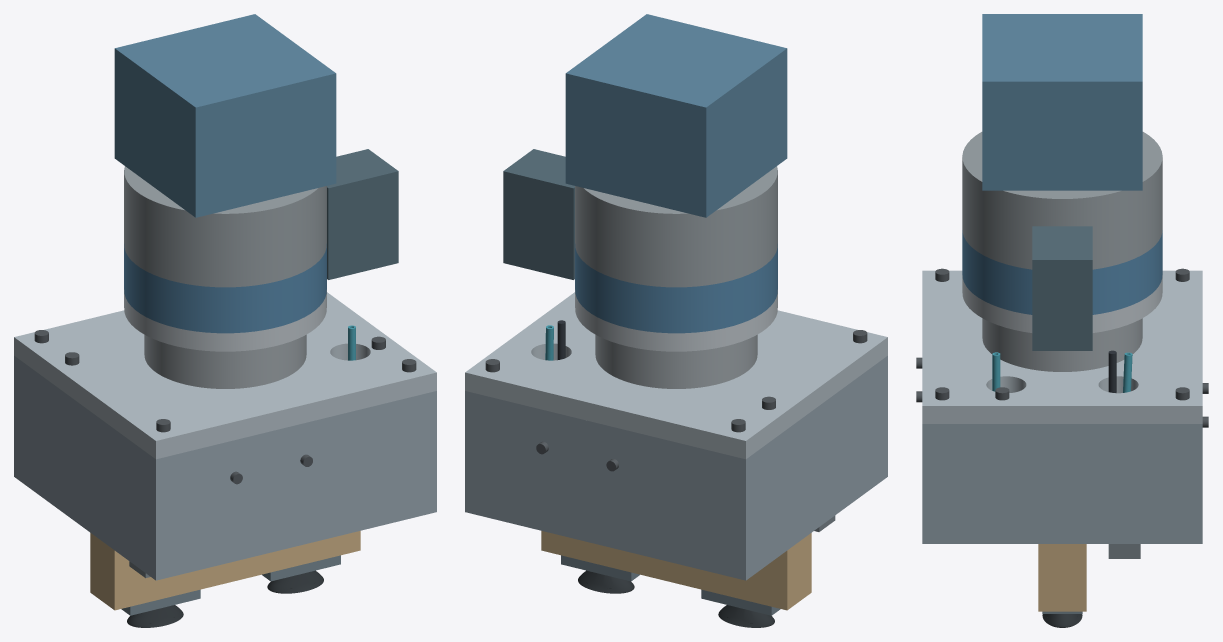
Rendered from TOOL03_R03_assembly.glb.
The picture shows the model from 3 angles, left to right: view 1: azimuth 30°, elevation 25°; view 2: azimuth 150°, elevation 25°; view 3: azimuth 270°, elevation 25°; orthographic projection.
Visible parts, largest first — view 1: 001_03-002_housing_body, 078_CM-03_common_tilt_unit, 002_03-003_top_plate_t10, 076_CM-01_common_changer_master, 074_03-109_changer_tool_plate_D100, 000_03-001_nose_PEEK, 064_03-108_load_cell_D80x25, 077_CM-02_common_pass_through_module_master, 073_03-011_loadcell_adapter_plate, 075_03-110_pass_through_module_tool_side, 018_03-101_oval_cup_30x20, 009_03-101_oval_cup_30x20 (+2 smaller); view 2: 001_03-002_housing_body, 078_CM-03_common_tilt_unit, 002_03-003_top_plate_t10, 076_CM-01_common_changer_master, 074_03-109_changer_tool_plate_D100, 000_03-001_nose_PEEK, 064_03-108_load_cell_D80x25, 077_CM-02_common_pass_through_module_master, 073_03-011_loadcell_adapter_plate, 075_03-110_pass_through_module_tool_side, 018_03-101_oval_cup_30x20, 009_03-101_oval_cup_30x20 (+2 smaller); view 3: 001_03-002_housing_body, 078_CM-03_common_tilt_unit, 002_03-003_top_plate_t10, 076_CM-01_common_changer_master, 074_03-109_changer_tool_plate_D100, 077_CM-02_common_pass_through_module_master, 064_03-108_load_cell_D80x25, 000_03-001_nose_PEEK, 075_03-110_pass_through_module_tool_side, 073_03-011_loadcell_adapter_plate, 043_03-010_nozzle_block, 018_03-101_oval_cup_30x20.
Part boxes in pixels (x1,y1,x2,y2): 001_03-002_housing_body: (14,356,436,580); 078_CM-03_common_tilt_unit: (114,14,336,217); 002_03-003_top_plate_t10: (14,292,436,459); 076_CM-01_common_changer_master: (124,166,326,287); 074_03-109_changer_tool_plate_D100: (124,244,326,333); 000_03-001_nose_PEEK: (90,531,360,610); 064_03-108_load_cell_D80x25: (144,334,306,388); 077_CM-02_common_pass_through_module_master: (327,149,398,234); 073_03-011_loadcell_adapter_plate: (124,290,326,351); 075_03-110_pass_through_module_tool_side: (327,217,398,279); 018_03-101_oval_cup_30x20: (267,570,323,593); 009_03-101_oval_cup_30x20: (127,605,183,627); 001_03-002_housing_body: (465,356,887,580); 078_CM-03_common_tilt_unit: (565,14,787,217); 002_03-003_top_plate_t10: (465,292,887,459); 076_CM-01_common_changer_master: (575,166,777,287); 074_03-109_changer_tool_plate_D100: (575,244,777,333); 000_03-001_nose_PEEK: (541,531,811,610); 064_03-108_load_cell_D80x25: (595,334,757,388); 077_CM-02_common_pass_through_module_master: (503,149,574,234); 073_03-011_loadcell_adapter_plate: (575,290,777,351); 075_03-110_pass_through_module_tool_side: (503,217,574,279); 018_03-101_oval_cup_30x20: (578,570,634,593); 009_03-101_oval_cup_30x20: (718,605,774,627); 001_03-002_housing_body: (922,424,1202,543); 078_CM-03_common_tilt_unit: (982,14,1142,190); 002_03-003_top_plate_t10: (922,270,1202,423); 076_CM-01_common_changer_master: (962,132,1162,269); 074_03-109_changer_tool_plate_D100: (962,230,1162,314); 077_CM-02_common_pass_through_module_master: (1032,226,1092,305); 064_03-108_load_cell_D80x25: (982,318,1142,371); 000_03-001_nose_PEEK: (1038,544,1086,611); 075_03-110_pass_through_module_tool_side: (1032,305,1092,350); 073_03-011_loadcell_adapter_plate: (962,275,1162,332); 043_03-010_nozzle_block: (1108,544,1140,558); 018_03-101_oval_cup_30x20: (1042,614,1082,627).
Bounding box in the file's own units: 0.17 × 0.294 × 0.146.
